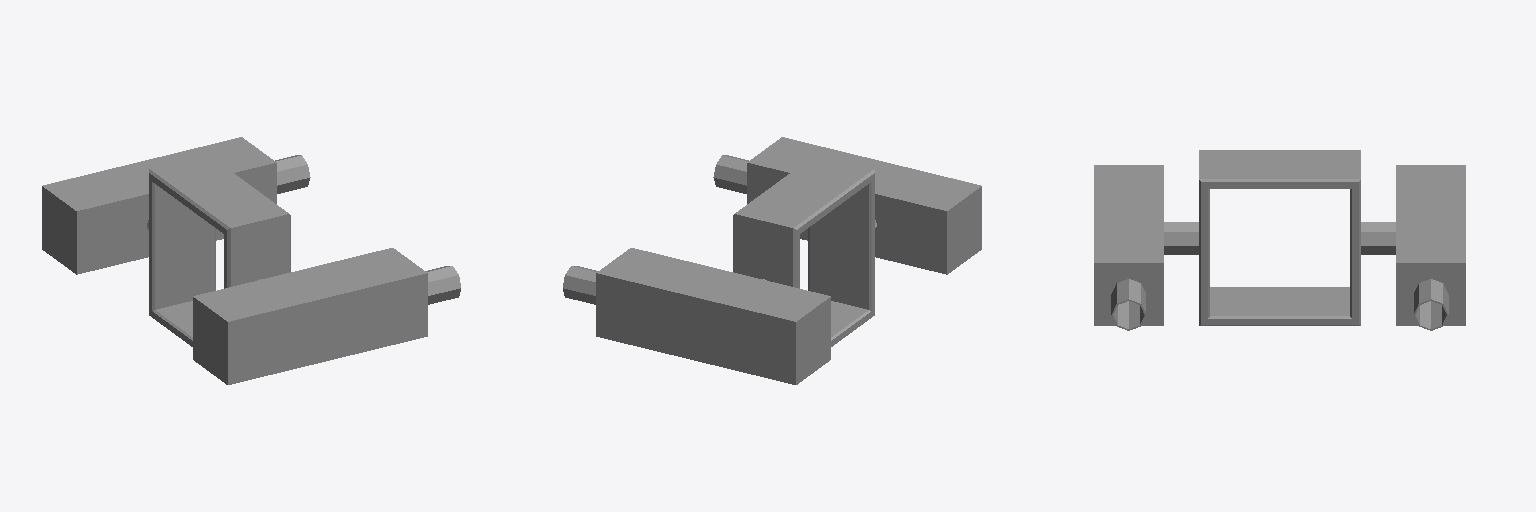
File: robot_dog_belt.obj
3 views of the same model, side by side, from view 1: azimuth 30°, elevation 25°; view 2: azimuth 150°, elevation 25°; view 3: azimuth 270°, elevation 25° (orthographic).
Parts seen in each view (by area): view 1: Belt_Cube.002; view 2: Belt_Cube.002; view 3: Belt_Cube.002.
Part boxes in pixels (bbox=[...]): Belt_Cube.002: bbox=[42, 137, 460, 384]; Belt_Cube.002: bbox=[563, 137, 981, 384]; Belt_Cube.002: bbox=[1094, 150, 1465, 330].
Bounding box in the file's own units: 4 × 2.31 × 5.31.